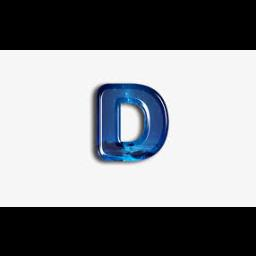d: (92, 78, 172, 170)
